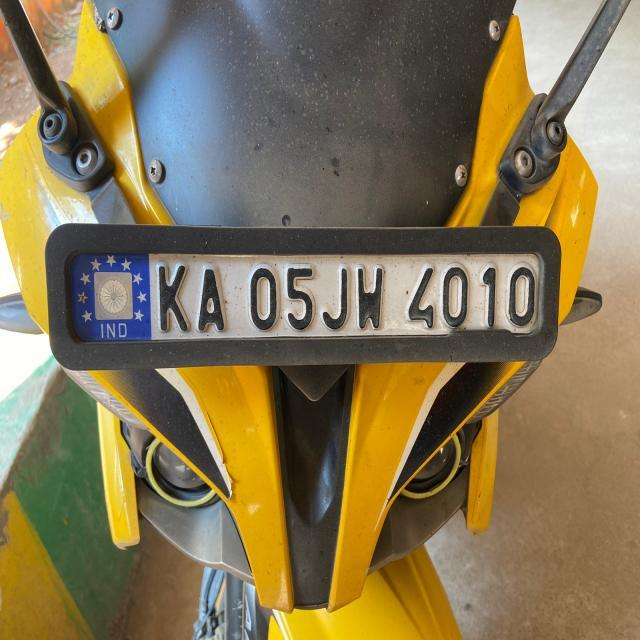0: (505, 260, 541, 335), (244, 262, 279, 334), (442, 262, 474, 331)
1: (480, 262, 500, 334)
4: (408, 264, 442, 340)
5: (282, 262, 319, 334)
A: (195, 260, 235, 337)
J: (319, 262, 353, 331)
K: (153, 252, 193, 337)
W: (354, 256, 387, 333)
